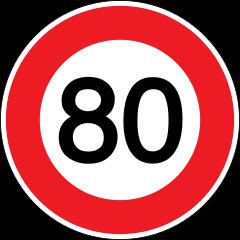Speed Limit -80-: (43, 54, 198, 186)
